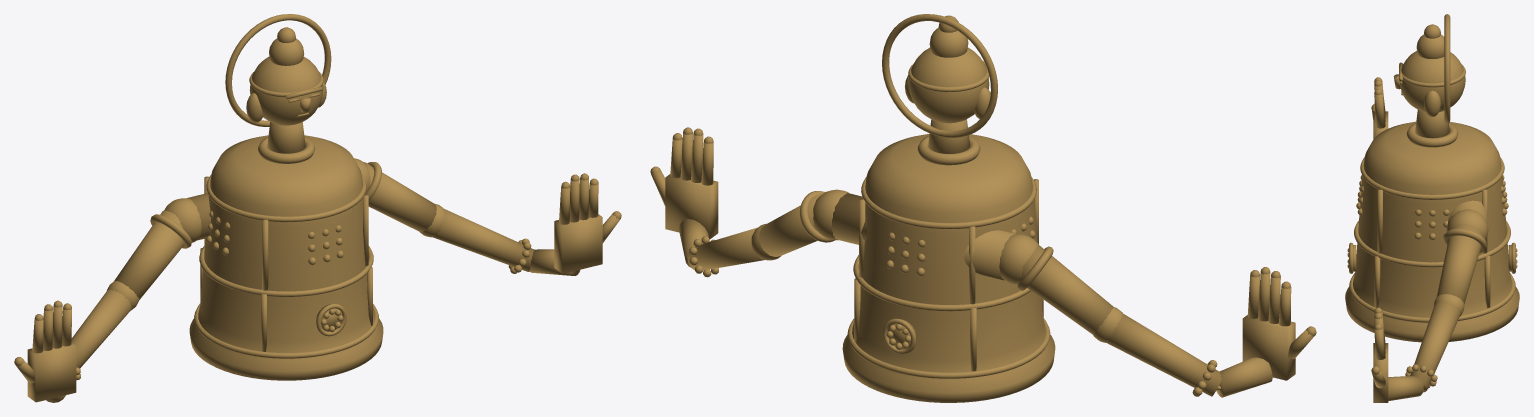
File: bonsho-guardian1.glb
3 renders of one model, left to right at view 1: azimuth 30°, elevation 25°; view 2: azimuth 150°, elevation 25°; view 3: azimuth 270°, elevation 25°, orthographic. The views are drawn at different scales.
Visible parts, largest first — view 1: BodhiTorso, BodhiLeftHand, BodhiRightHand, BodhiRightUpper, BodhiLeftUpper, BodhiLeftFore, BodhiRightFore; view 2: BodhiTorso, BodhiRightHand, BodhiLeftHand, BodhiRightUpper, BodhiRightFore, BodhiLeftUpper, BodhiLeftFore; view 3: BodhiTorso, BodhiLeftUpper, BodhiLeftFore, BodhiLeftHand, BodhiRightHand.
Boxes of the visible parts, x1,y1,x2,y2 form: BodhiTorso: (164,14,383,380); BodhiLeftHand: (529,173,621,275); BodhiRightHand: (14,300,76,402); BodhiRightUpper: (107,210,191,310); BodhiLeftUpper: (363,162,445,237); BodhiLeftFore: (433,209,534,273); BodhiRightFore: (71,289,131,380); BodhiTorso: (813,14,1055,402); BodhiRightHand: (1216,267,1316,397); BodhiLeftHand: (650,127,718,267); BodhiRightUpper: (1017,245,1123,342); BodhiRightFore: (1107,313,1221,396); BodhiLeftUpper: (751,191,834,260); BodhiLeftFore: (687,227,764,277); BodhiTorso: (1345,14,1519,342); BodhiLeftUpper: (1433,224,1486,316); BodhiLeftFore: (1405,302,1460,392); BodhiLeftHand: (1371,307,1423,402); BodhiRightHand: (1371,77,1388,139).
Bounding box in the file's own units: 5.12 × 2.59 × 1.42.
